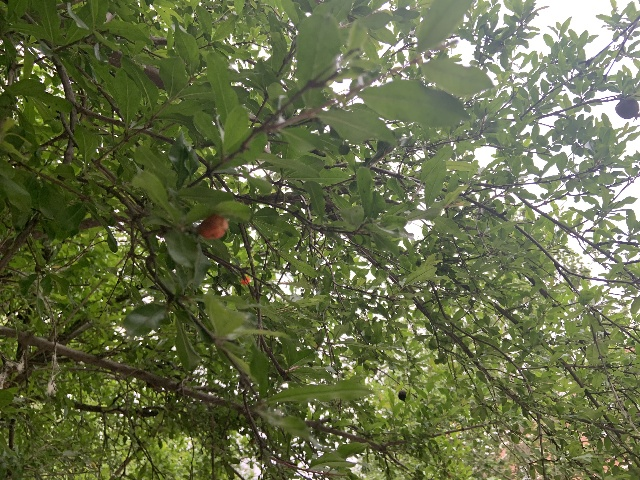bud: (197, 214, 228, 239)
flower: (240, 276, 250, 285)
